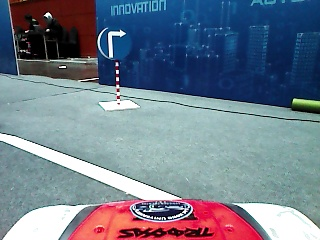turn: (96, 26, 131, 61)
